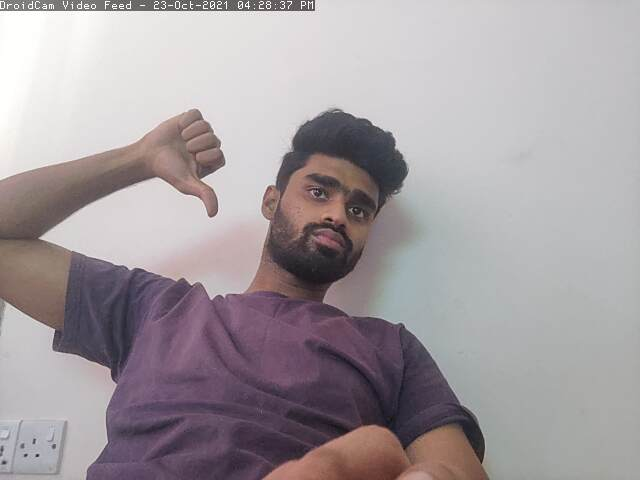ThumbsDown: (140, 104, 228, 217)
